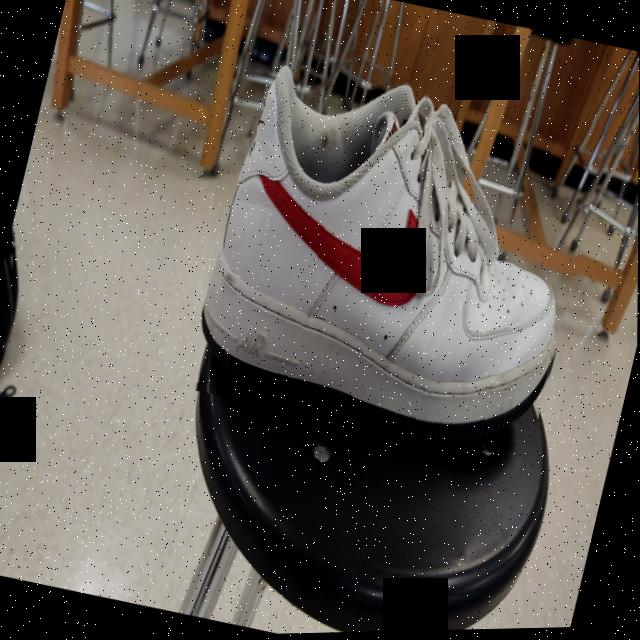shoe: (184, 44, 611, 469)
